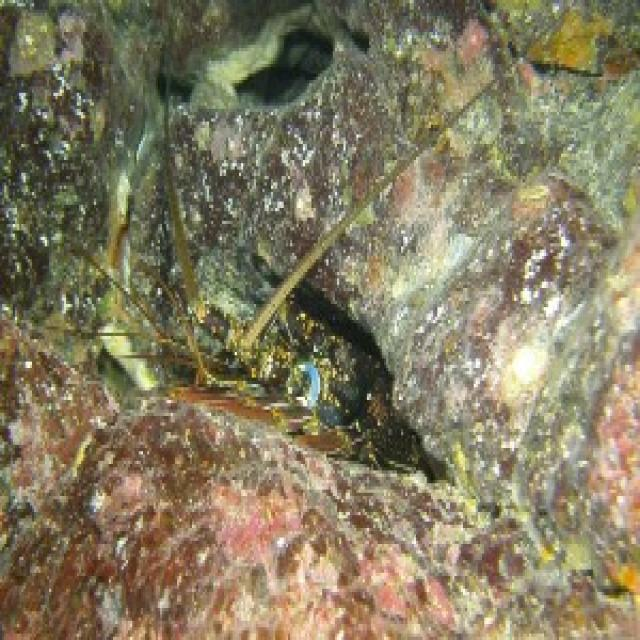lobsters: (110, 204, 444, 511)
